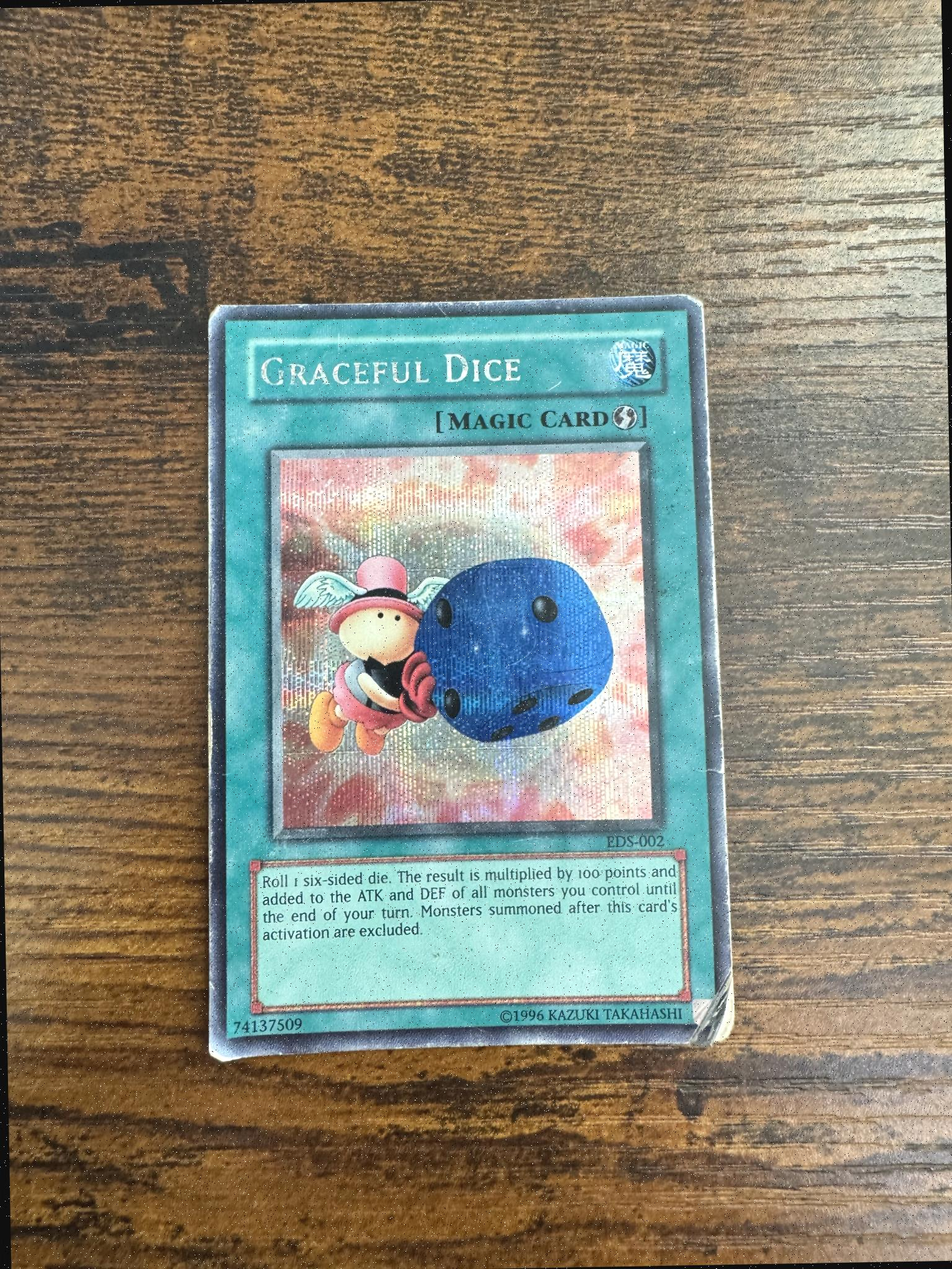card-2UtV: (208, 294, 735, 1062)
